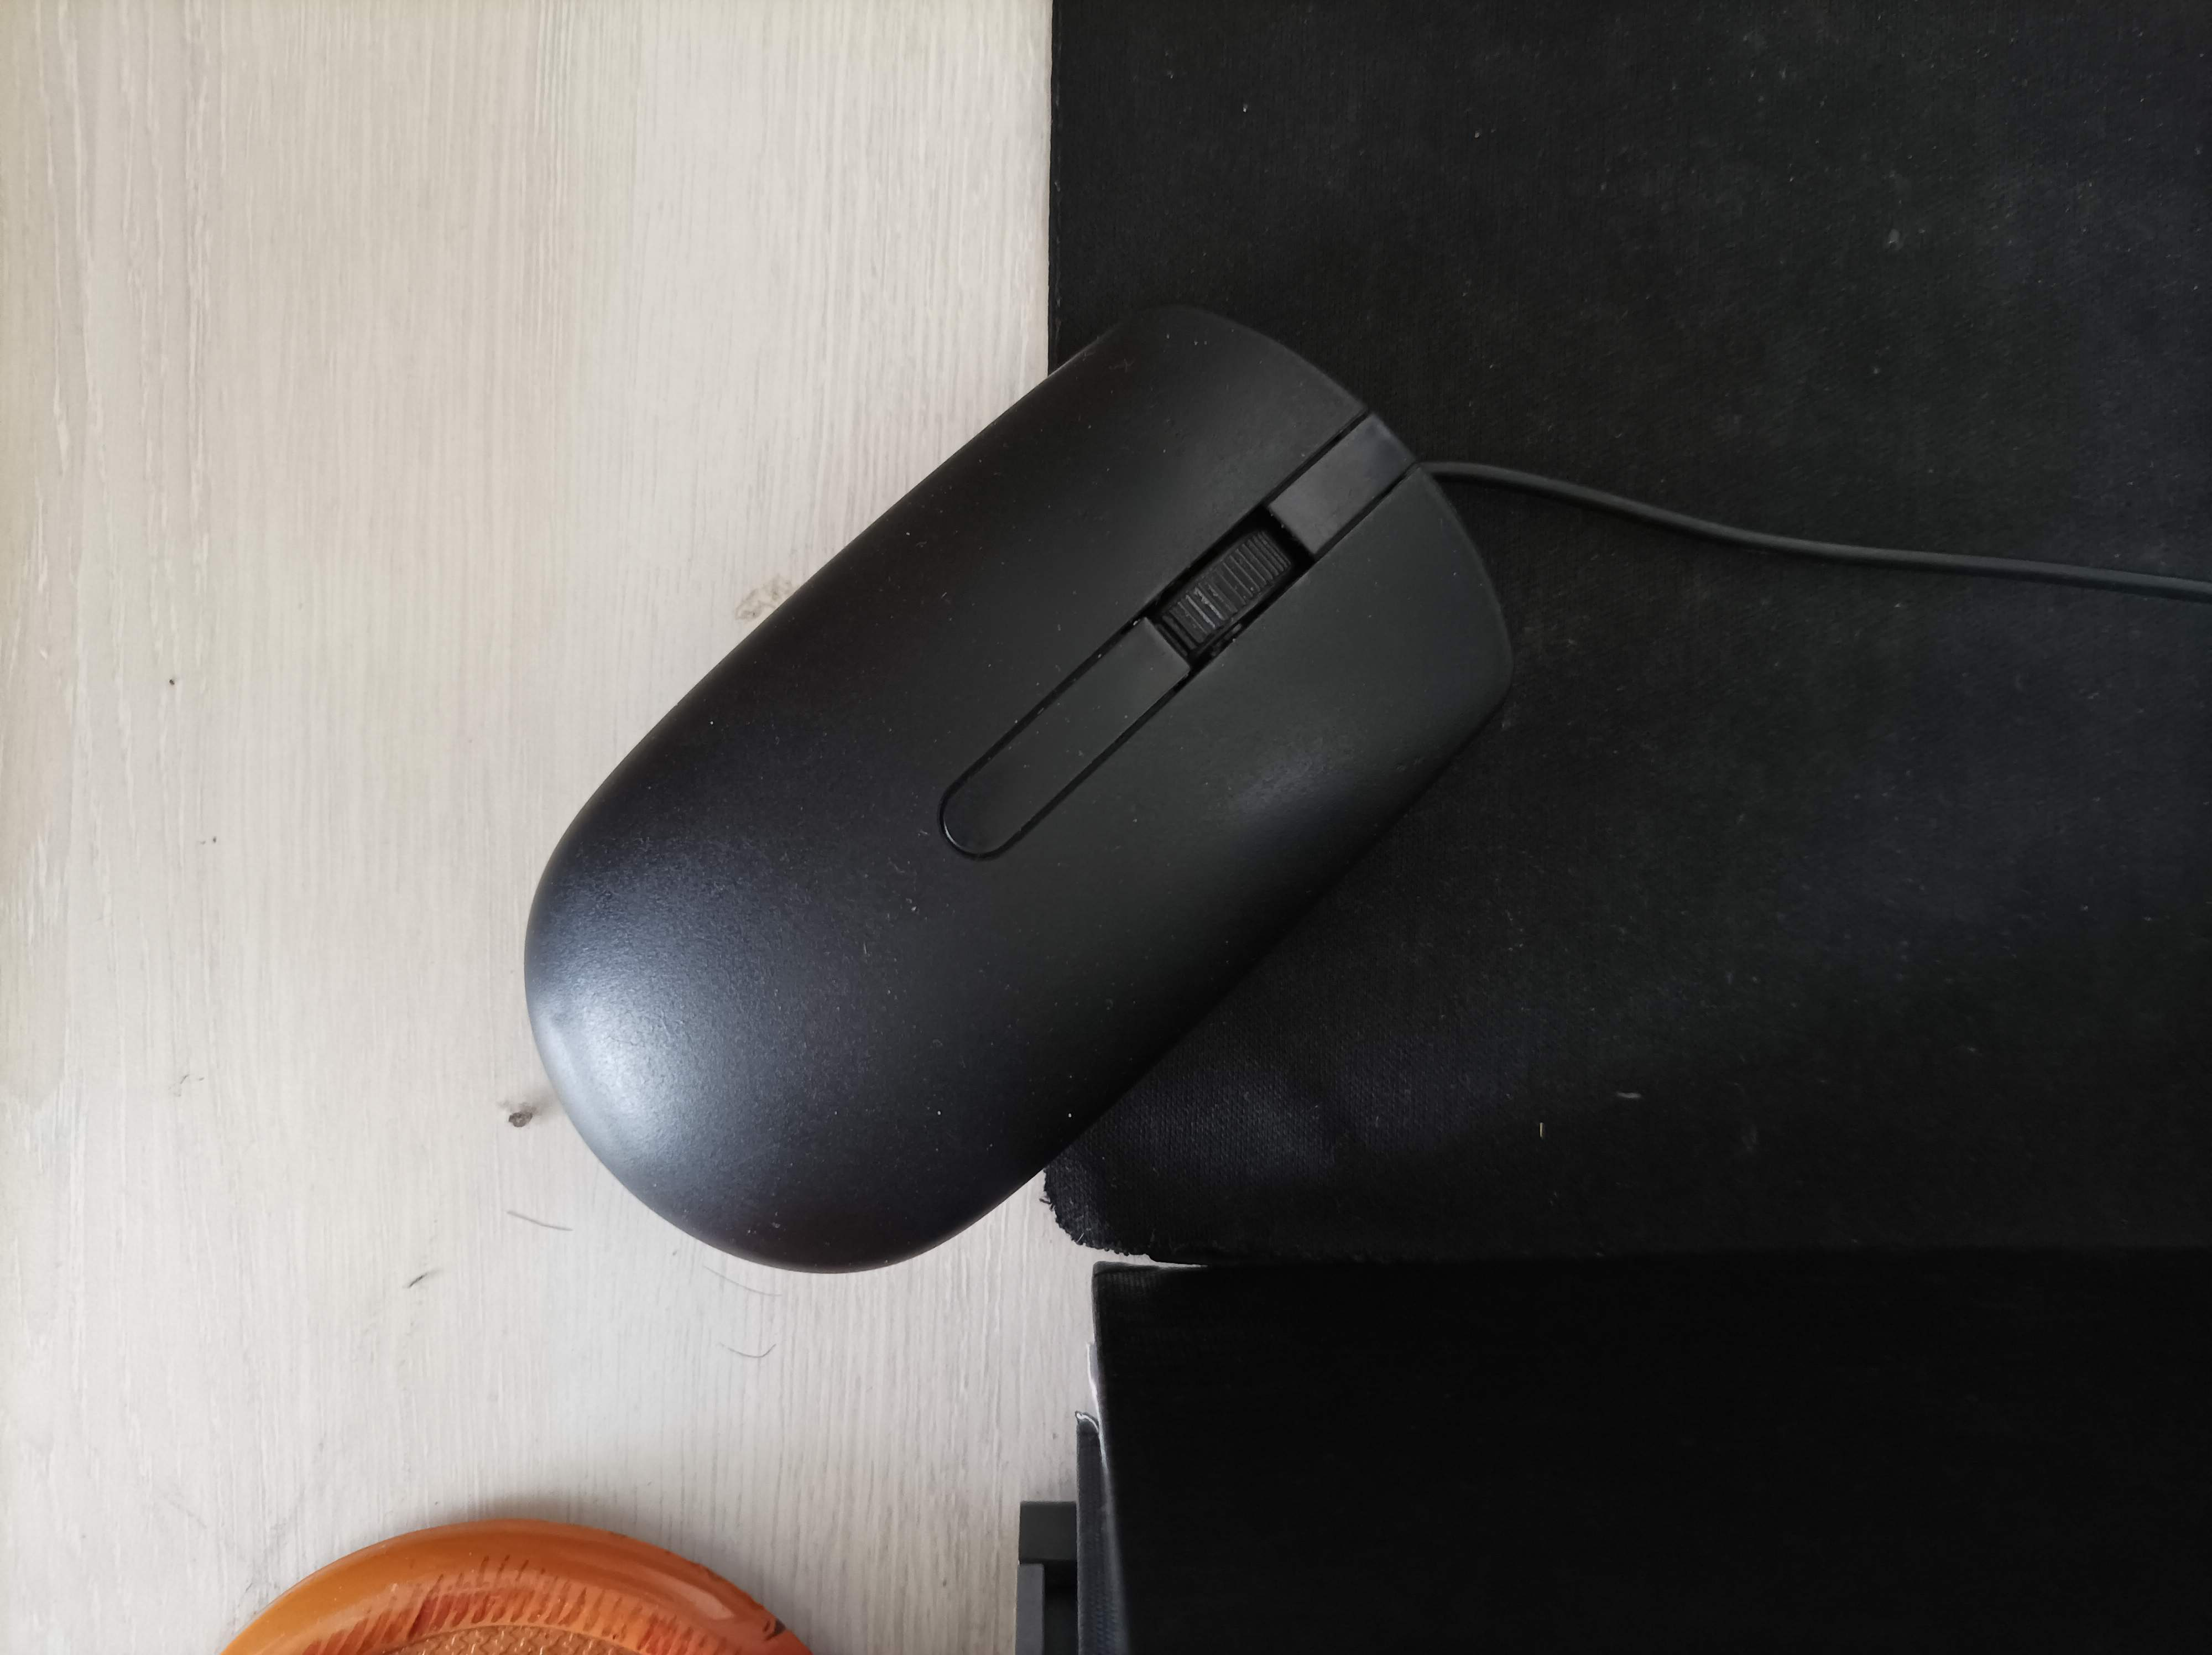mouse: (497, 297, 1527, 1286)
